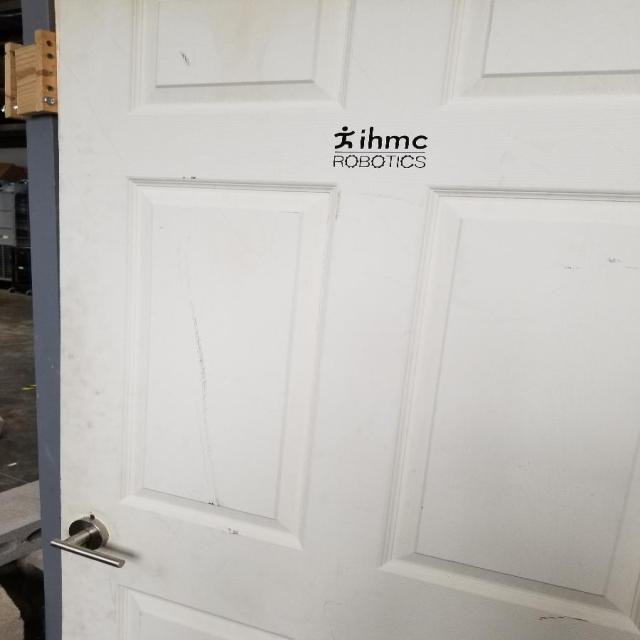door: (48, 514, 128, 568)
